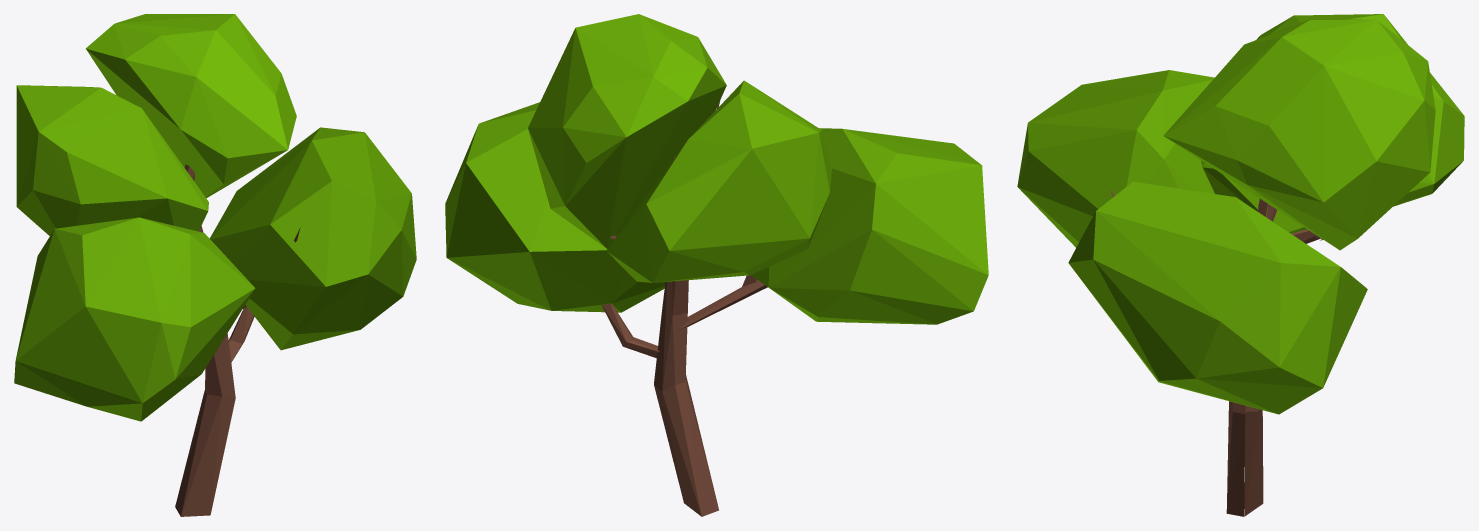
Rendered from estilizada-NormalTree_5.glb.
3 renders of one model, left to right at view 1: azimuth 30°, elevation 25°; view 2: azimuth 150°, elevation 25°; view 3: azimuth 270°, elevation 25°, orthographic. The views are drawn at different scales.
Visible parts, largest first — view 1: NormalTree_5.001; view 2: NormalTree_5.001; view 3: NormalTree_5.001.
Part boxes in pixels (x1,y1,x2,y2): NormalTree_5.001: (14, 14, 416, 516); NormalTree_5.001: (445, 14, 988, 516); NormalTree_5.001: (1017, 14, 1464, 516).
Size of the model in its own units: 2.94 by 2.92 by 2.4.
